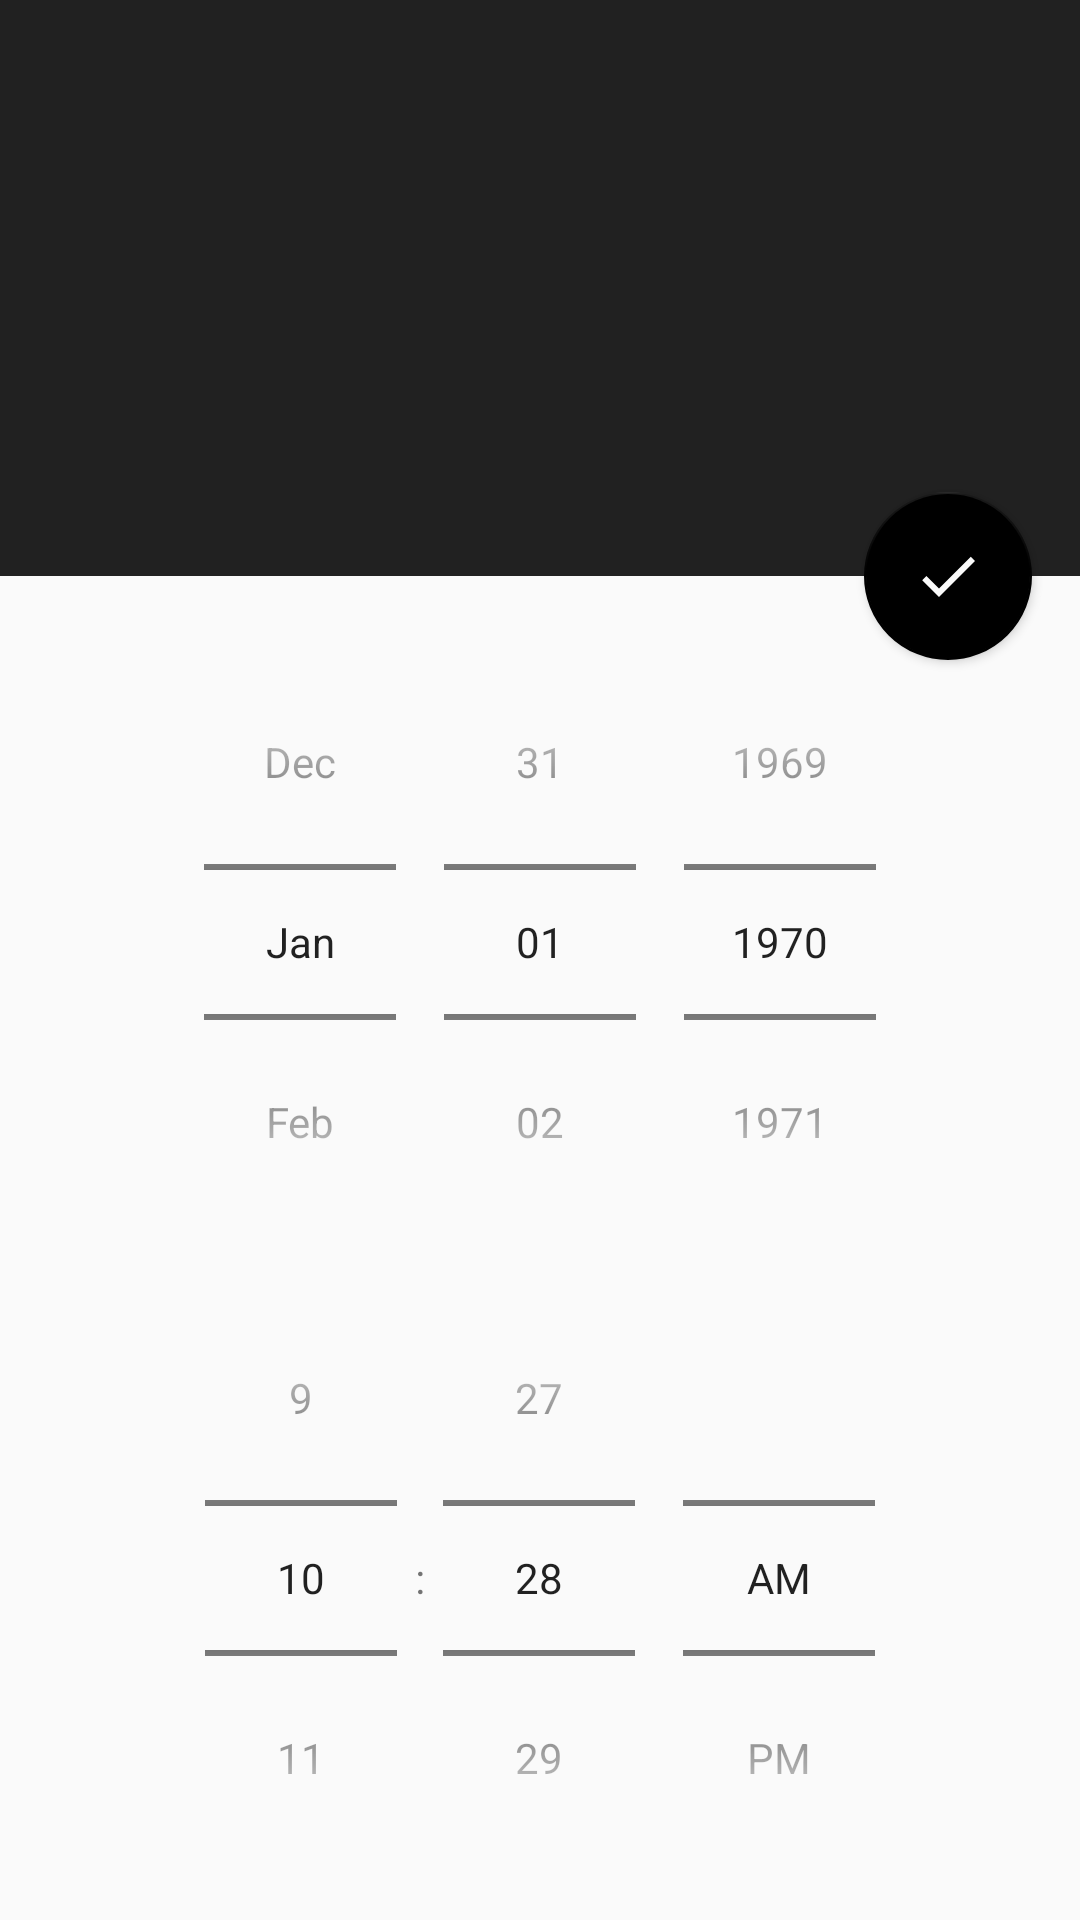

Where to tap for icons on this 1080x1920 app screen, as (x=x, y=y):
done: (x=948, y=576)
